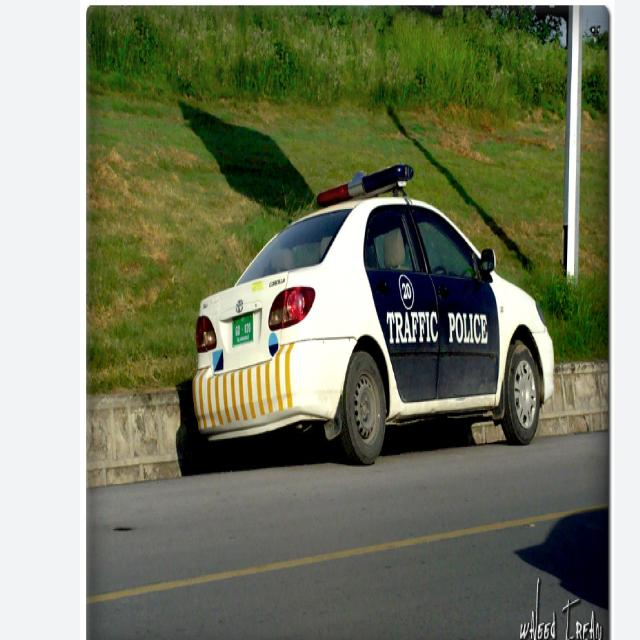police: (190, 190, 578, 429)
